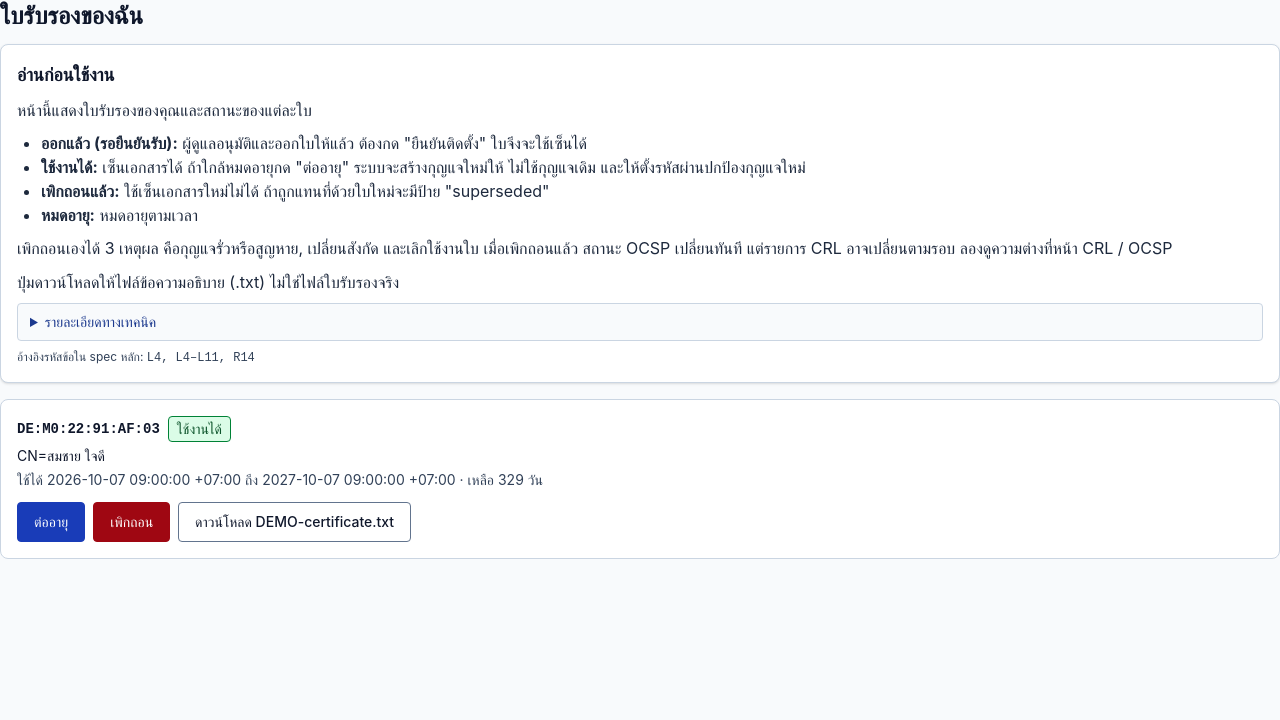
it: /certs › renew generates a new key (keygen) and then sends only the CSR to the renew endpoint
Click the button "ต่ออายุ" at (51, 522), box [17,502,85,542]
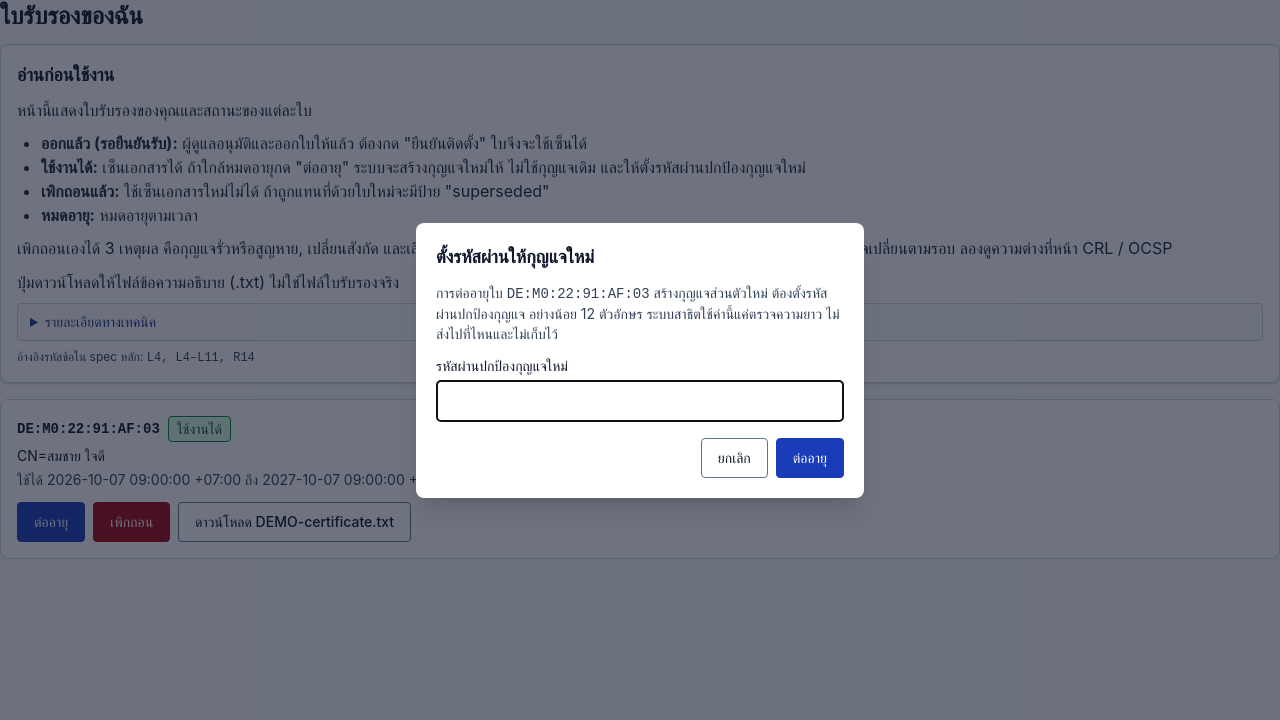
Type "elevenchar1" into the password field with test id "certs-passphrase-input" at (640, 400), box [436,380,844,422]
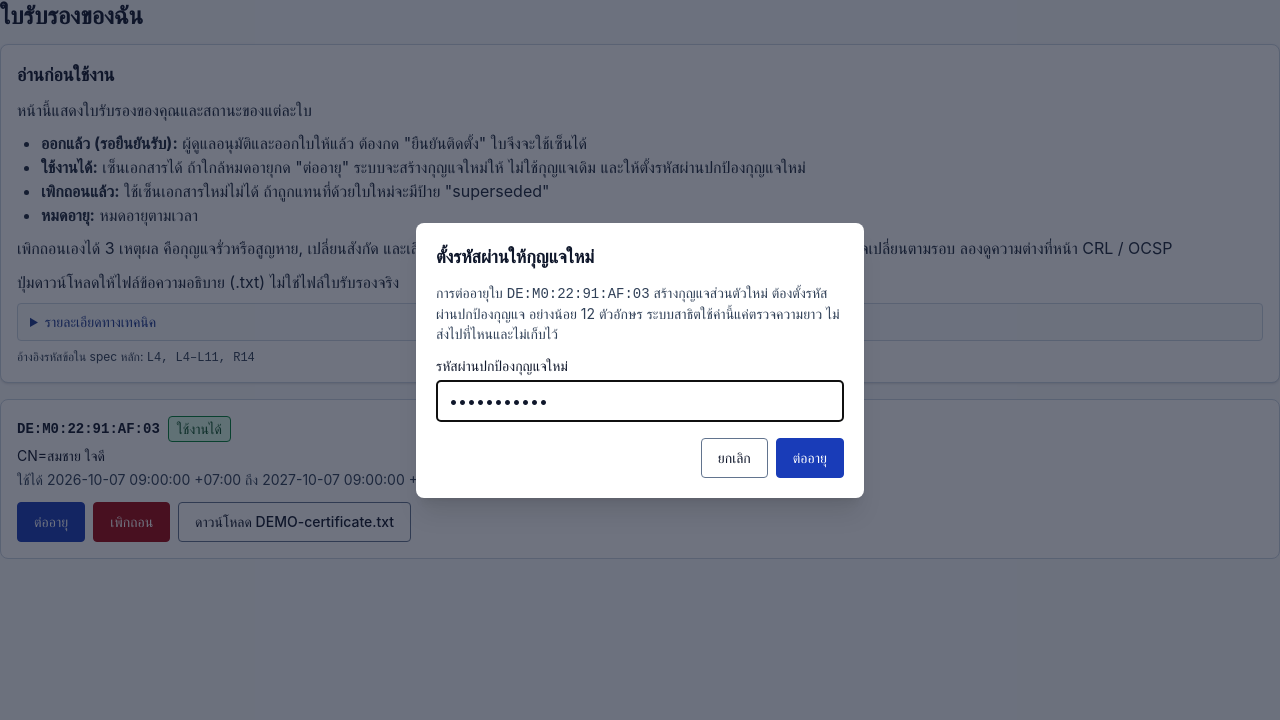
Click the button with test id "certs-passphrase-submit" at (810, 458), box [776,438,844,478]
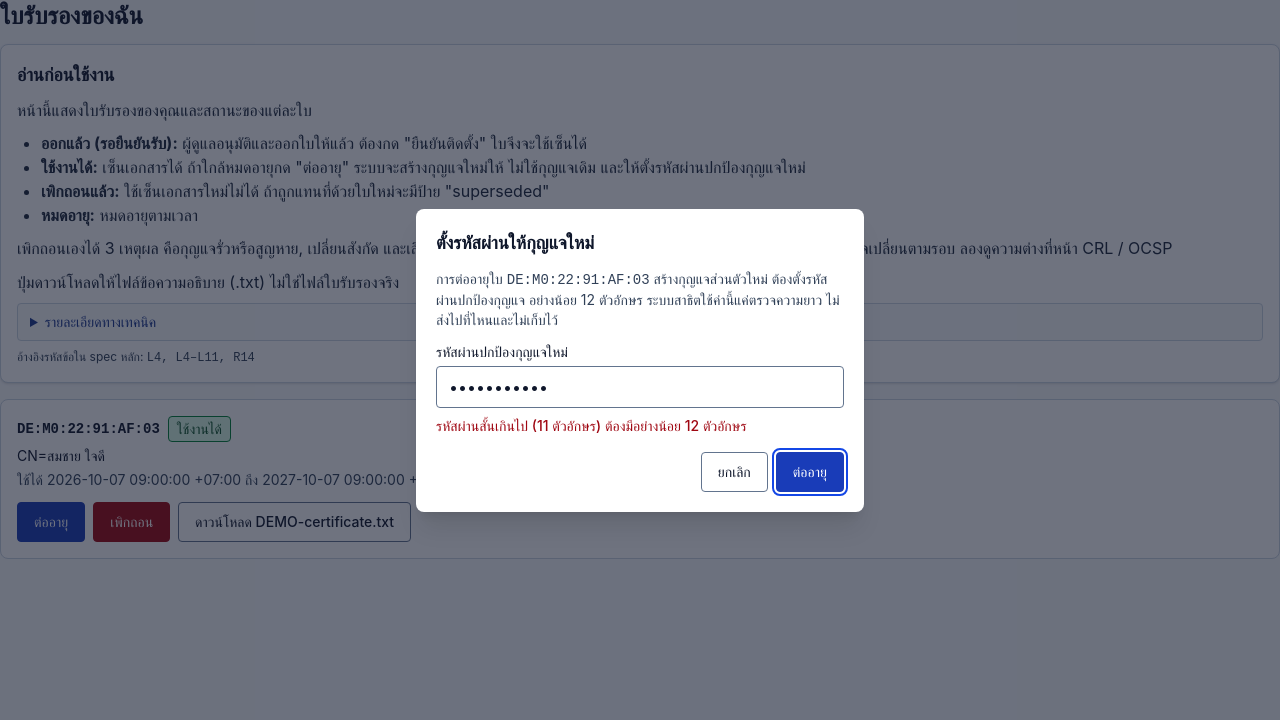
Expected: the message with test id "certs-passphrase-error" shows "อย่างน้อย 12", [436,416,747,434]
Clear the password field with test id "certs-passphrase-input" at (640, 386), box [436,366,844,408]
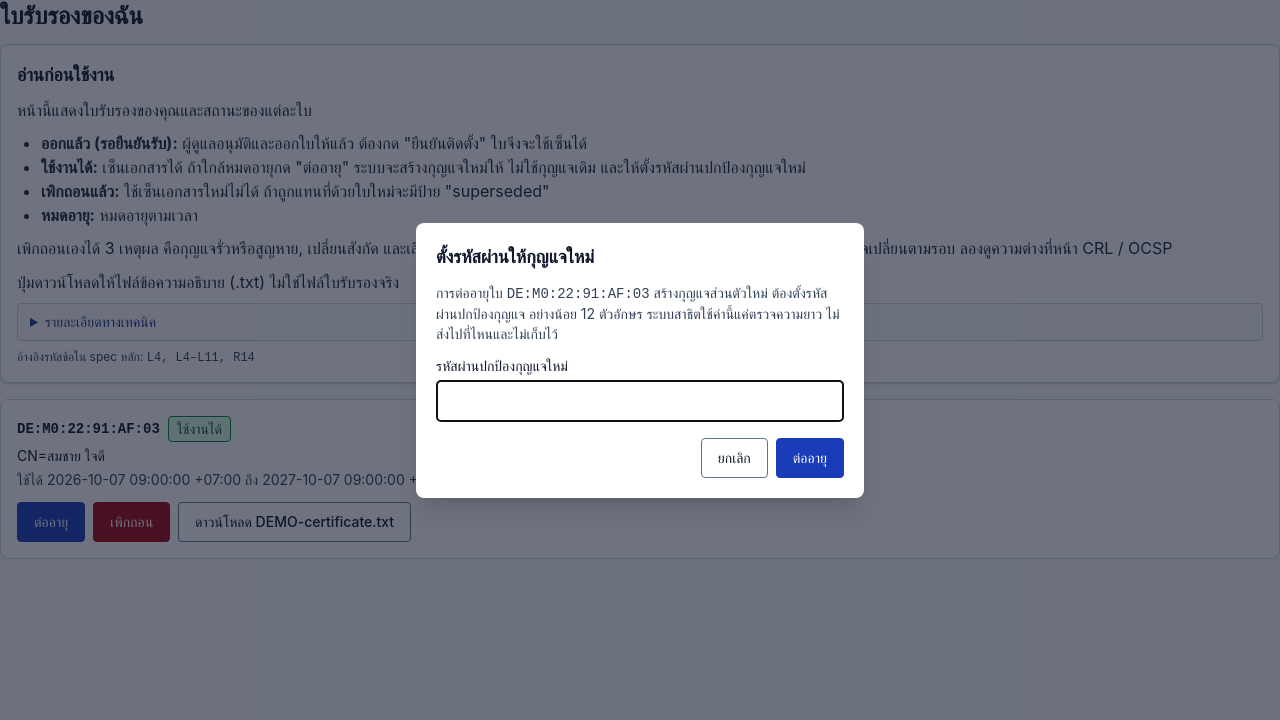
Type "twelve-chars-or-more!" into the password field with test id "certs-passphrase-input" at (640, 400), box [436,380,844,422]
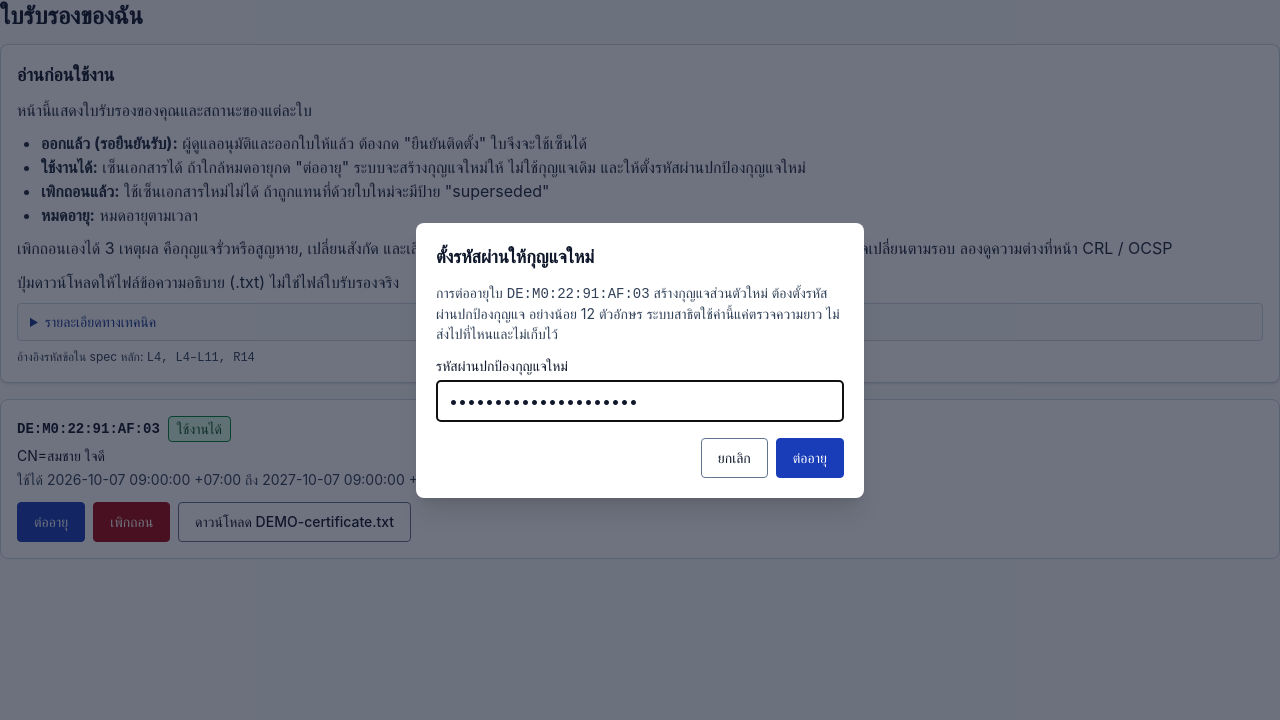
Click the button with test id "certs-passphrase-submit" at (810, 458), box [776,438,844,478]
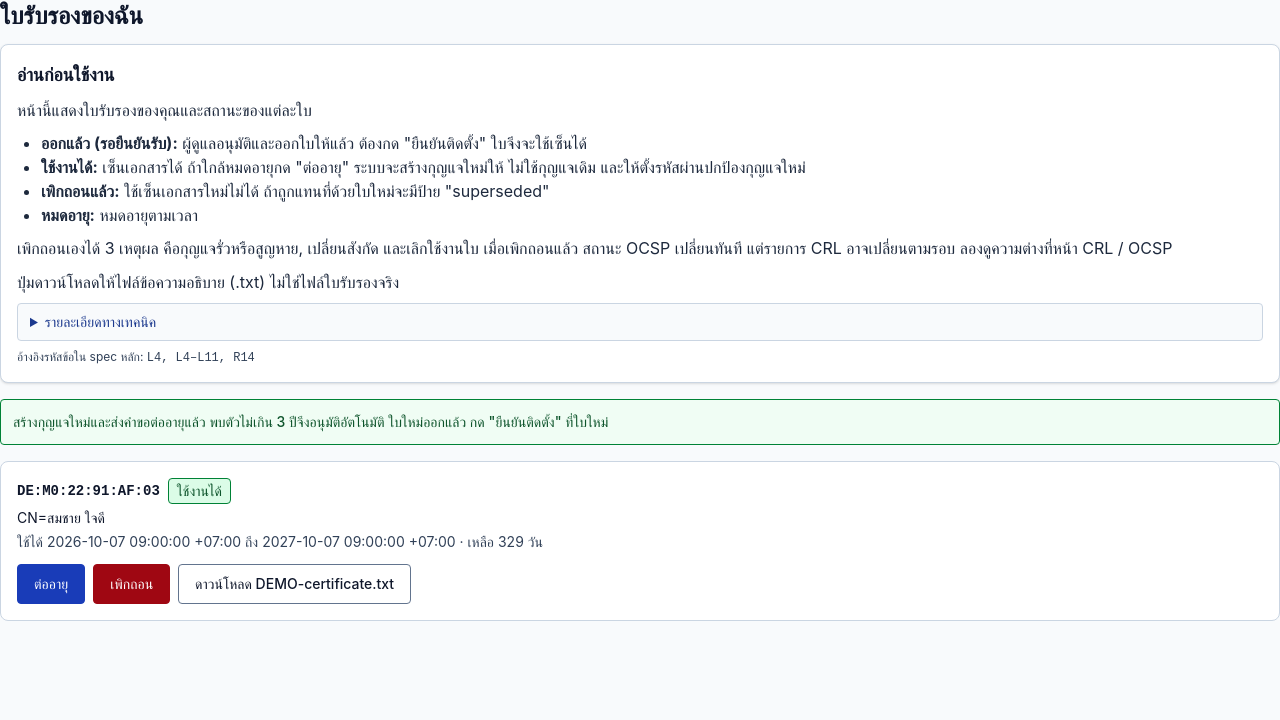
Expected: the text "พบตัวไม่เกิน 3 ปีจึงอนุมัติอัตโนมัติ" is shown, [13,413,608,430]
